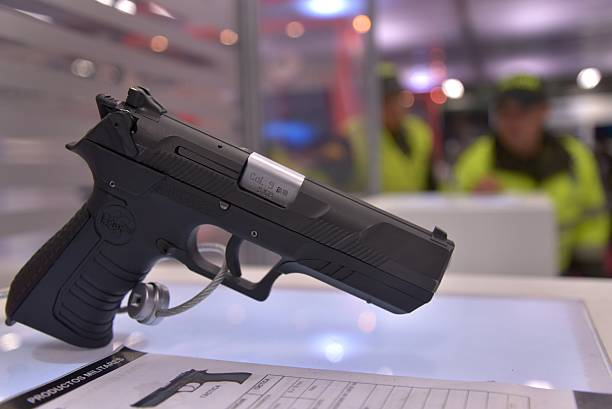pistol: (7, 82, 465, 374)
